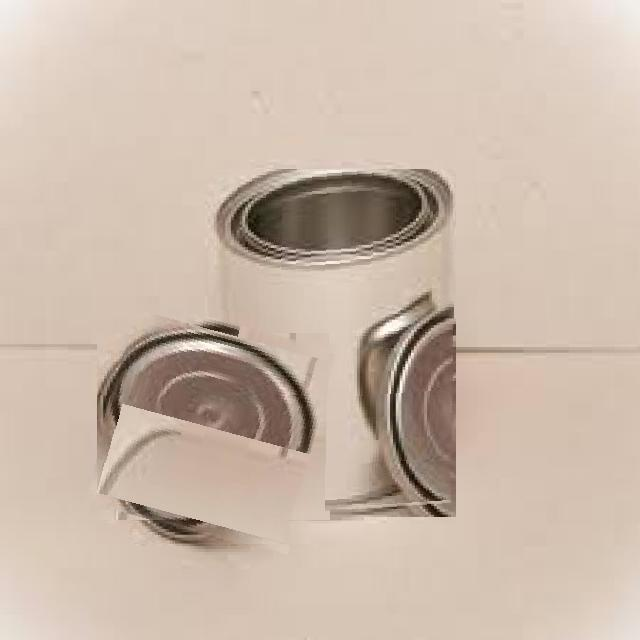recyclable: (214, 170, 456, 520), (97, 310, 330, 544)
